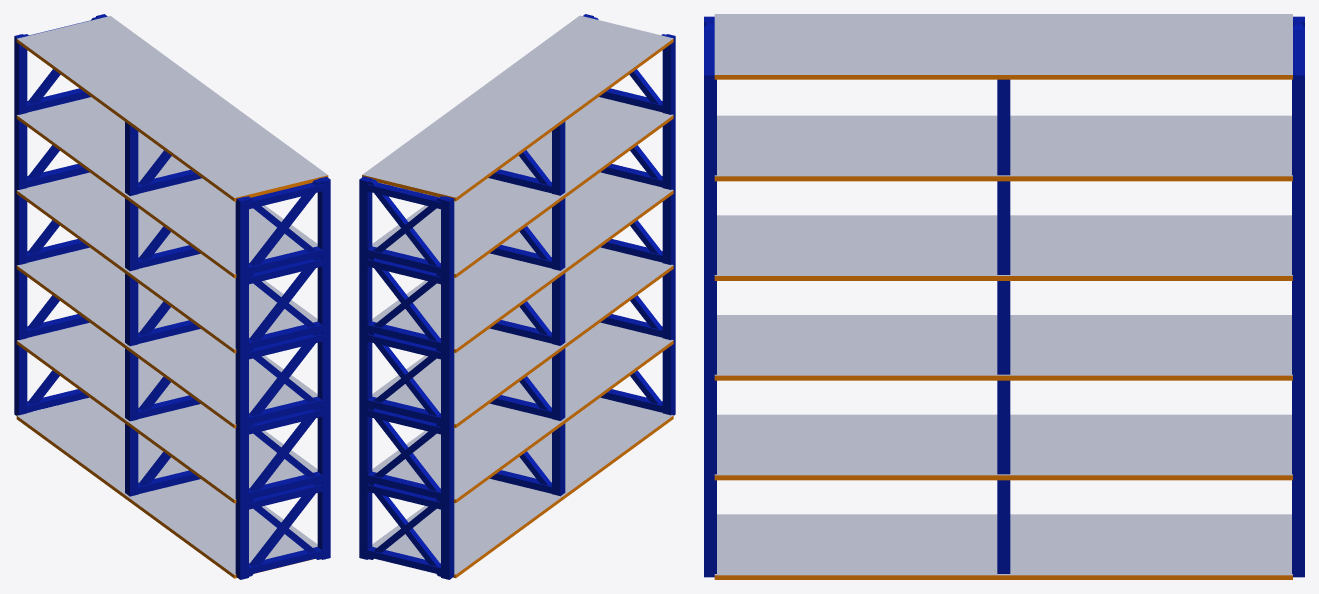
The model's file is prateleira.fbx.
3 renders of one model, left to right at view 1: azimuth 30°, elevation 25°; view 2: azimuth 150°, elevation 25°; view 3: azimuth 270°, elevation 25°, orthographic. The views are drawn at different scales.
Visible parts, largest first — view 1: Cube.019, Cube.010, Cube.020, Cube.024, Cube.021, Cube.023, Cube.022; view 2: Cube.019, Cube.010, Cube.020, Cube.023, Cube.021, Cube.024, Cube.022; view 3: Cube.010, Cube.020, Cube.023, Cube.022, Cube.021, Cube.024, Cube.019.
Part boxes in pixels (x1,y1,x2,y2): Cube.019: [14, 14, 330, 579]; Cube.010: [16, 16, 328, 201]; Cube.020: [16, 97, 317, 278]; Cube.024: [16, 398, 317, 578]; Cube.021: [16, 172, 317, 353]; Cube.023: [16, 322, 317, 503]; Cube.022: [16, 247, 317, 428]; Cube.019: [359, 14, 675, 579]; Cube.010: [362, 15, 673, 201]; Cube.020: [372, 97, 673, 277]; Cube.023: [372, 322, 673, 502]; Cube.021: [372, 172, 673, 352]; Cube.024: [372, 397, 673, 578]; Cube.022: [372, 247, 673, 427]; Cube.010: [714, 14, 1292, 79]; Cube.020: [714, 115, 1292, 181]; Cube.023: [714, 414, 1292, 480]; Cube.022: [714, 315, 1292, 380]; Cube.021: [714, 215, 1292, 280]; Cube.024: [714, 514, 1292, 579]; Cube.019: [704, 16, 1304, 577].
Size of the model in its own units: 528 by 2045 by 2205.
